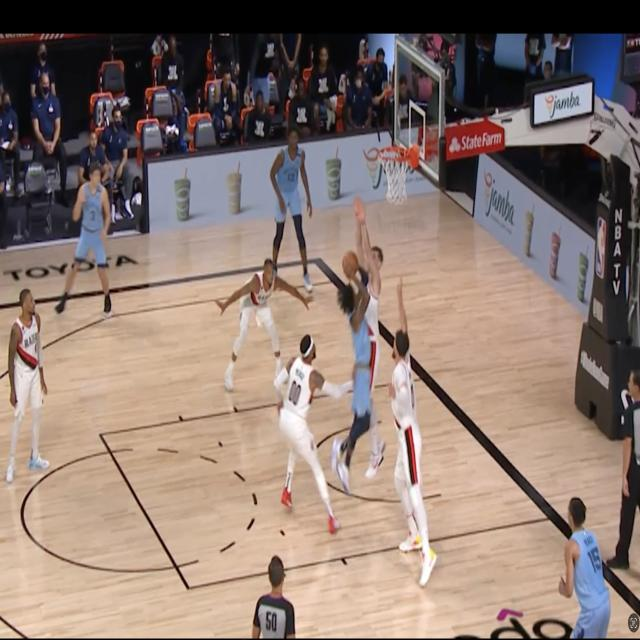foul: (326, 185, 385, 492)
no foul: (365, 274, 440, 602), (272, 325, 350, 548)
